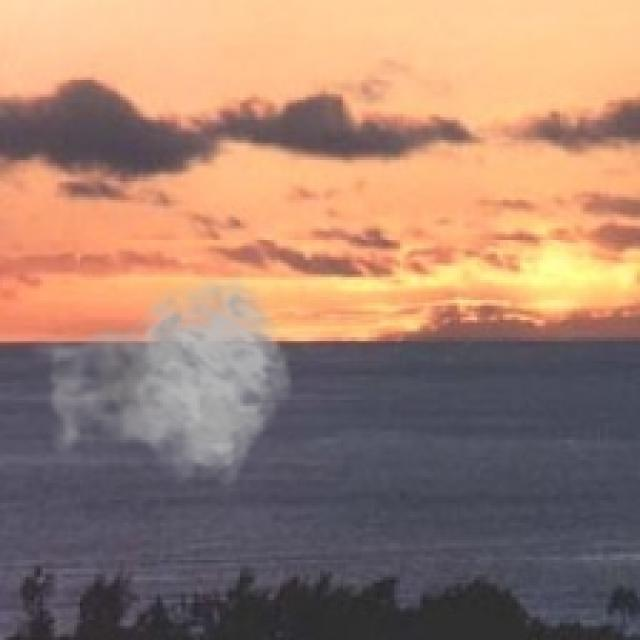smoke: (29, 272, 294, 492)
